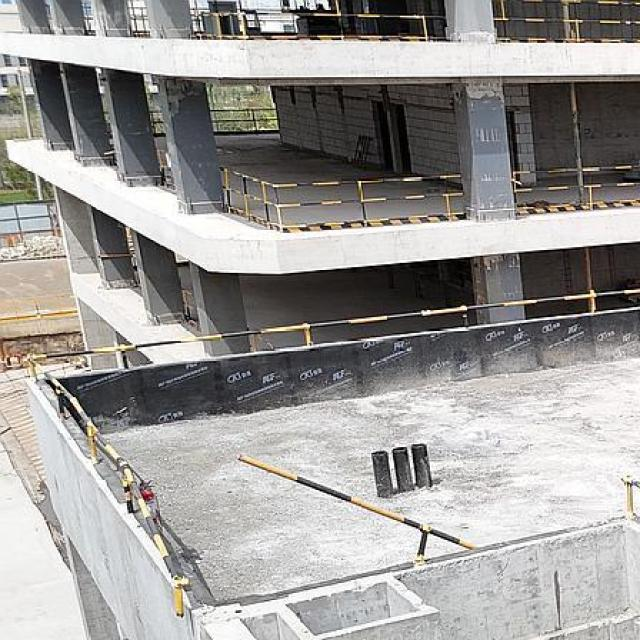edge_guardrail: (27, 288, 640, 618), (236, 454, 480, 564), (217, 164, 467, 230), (190, 0, 450, 43), (493, 0, 640, 43), (511, 163, 640, 210), (211, 108, 278, 129), (181, 288, 202, 331), (129, 0, 150, 33), (149, 109, 164, 124)
